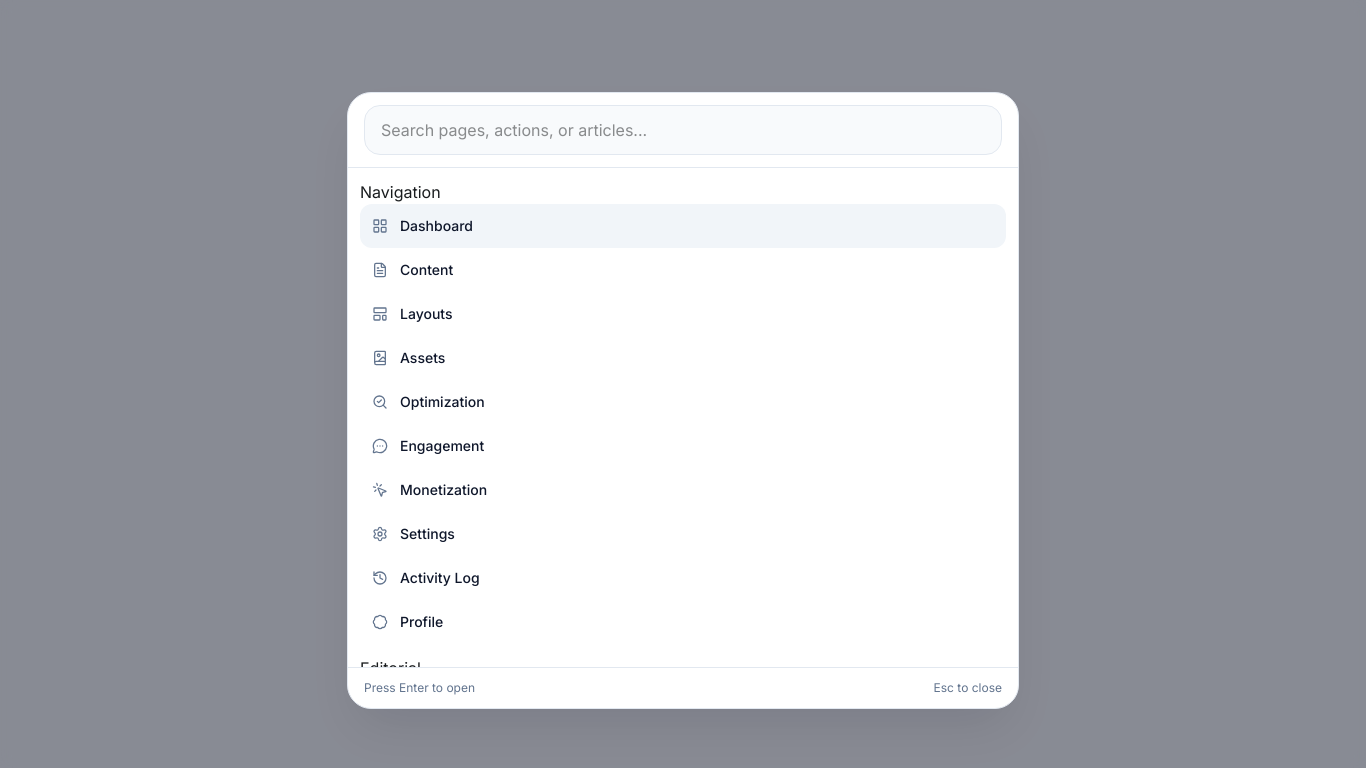
Scenario: AdminCommandPalette › shows empty state when no command matches
Type "no-match-keyword" into the dropdown with placeholder "Search pages, actions, or articles..." at (683, 130), box [364,105,1002,155]
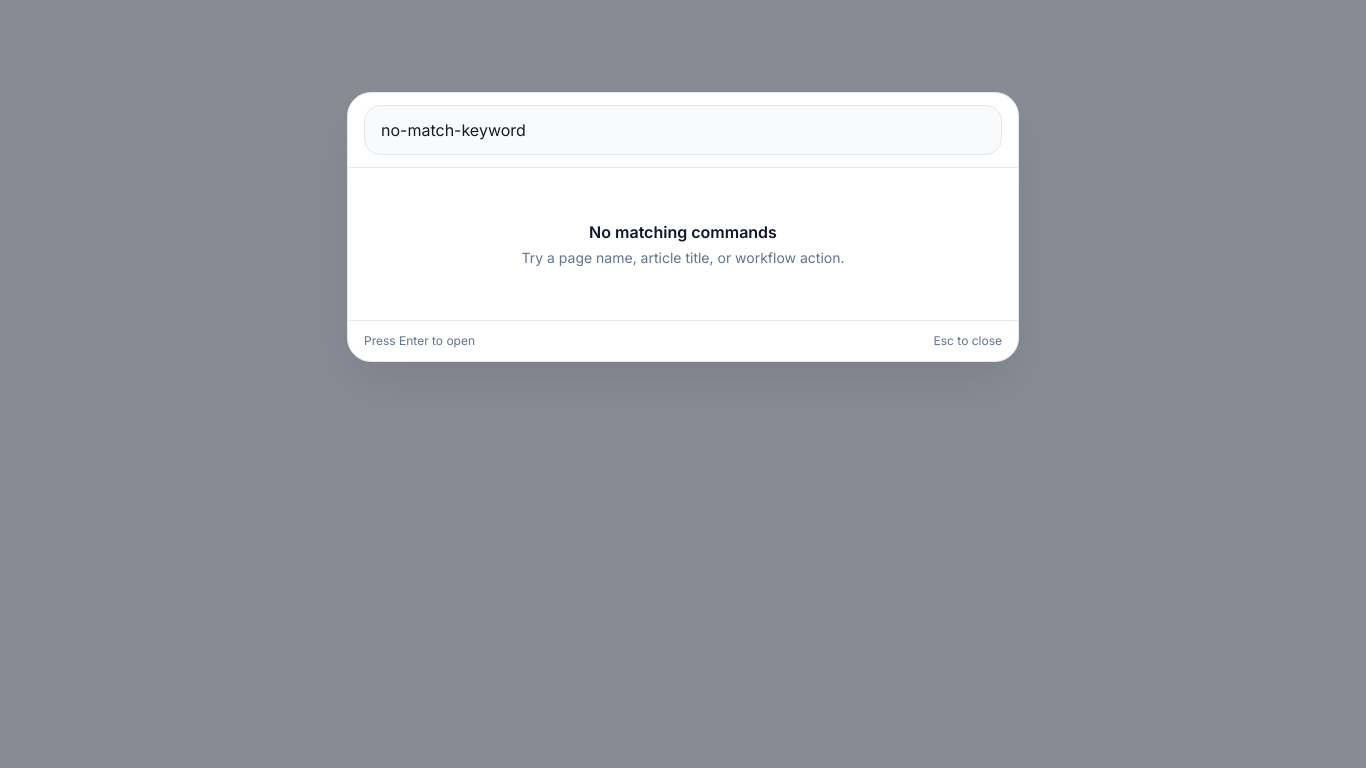
Now the text "No matching commands" is shown, box [589,222,777,242]
